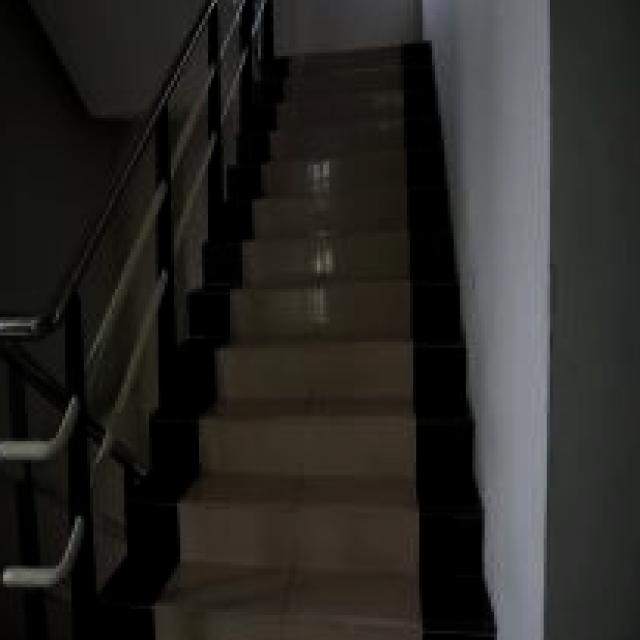upstair: (259, 35, 473, 640)
